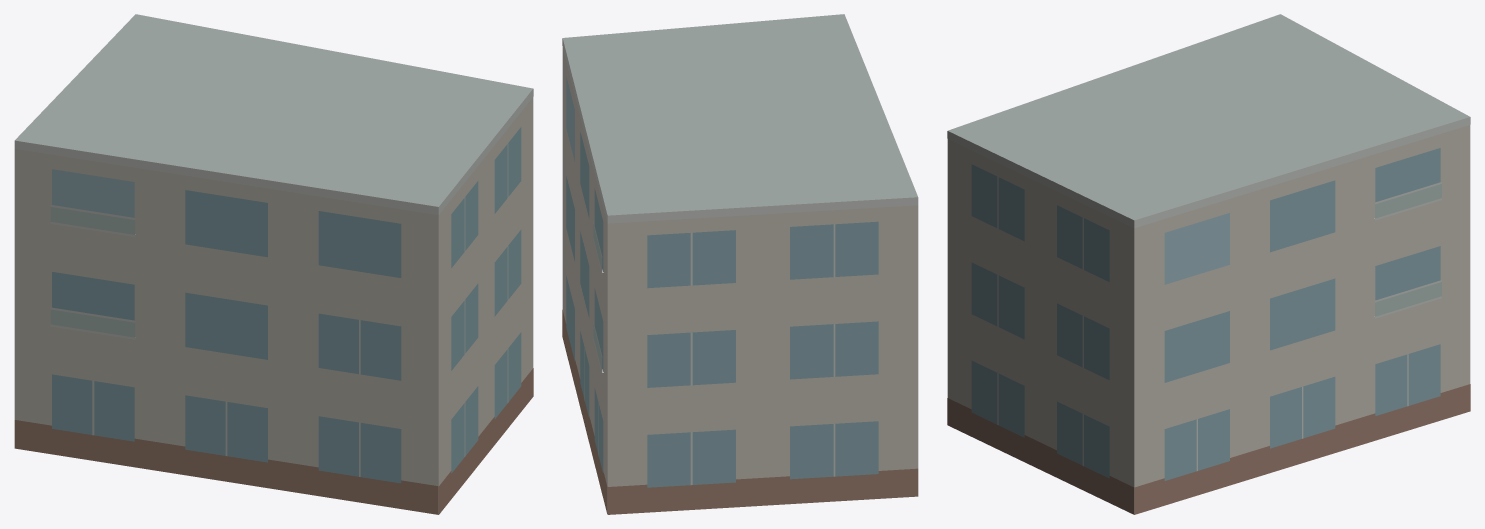
Rendered from survey-upis-32882391.glb.
The picture shows the model from 3 angles, left to right: view 1: azimuth 30°, elevation 25°; view 2: azimuth 150°, elevation 25°; view 3: azimuth 270°, elevation 25°; orthographic projection. The views are drawn at different scales.
Parts seen in each view (by area): view 1: survey-upis-32882391.tmp; view 2: survey-upis-32882391.tmp; view 3: survey-upis-32882391.tmp.
Boxes of the visible parts, <box> form: survey-upis-32882391.tmp: <box>14,14,533,514</box>; survey-upis-32882391.tmp: <box>562,14,918,514</box>; survey-upis-32882391.tmp: <box>947,14,1470,514</box>.
Bounding box in the file's own units: 13.77 × 9.15 × 14.74.
